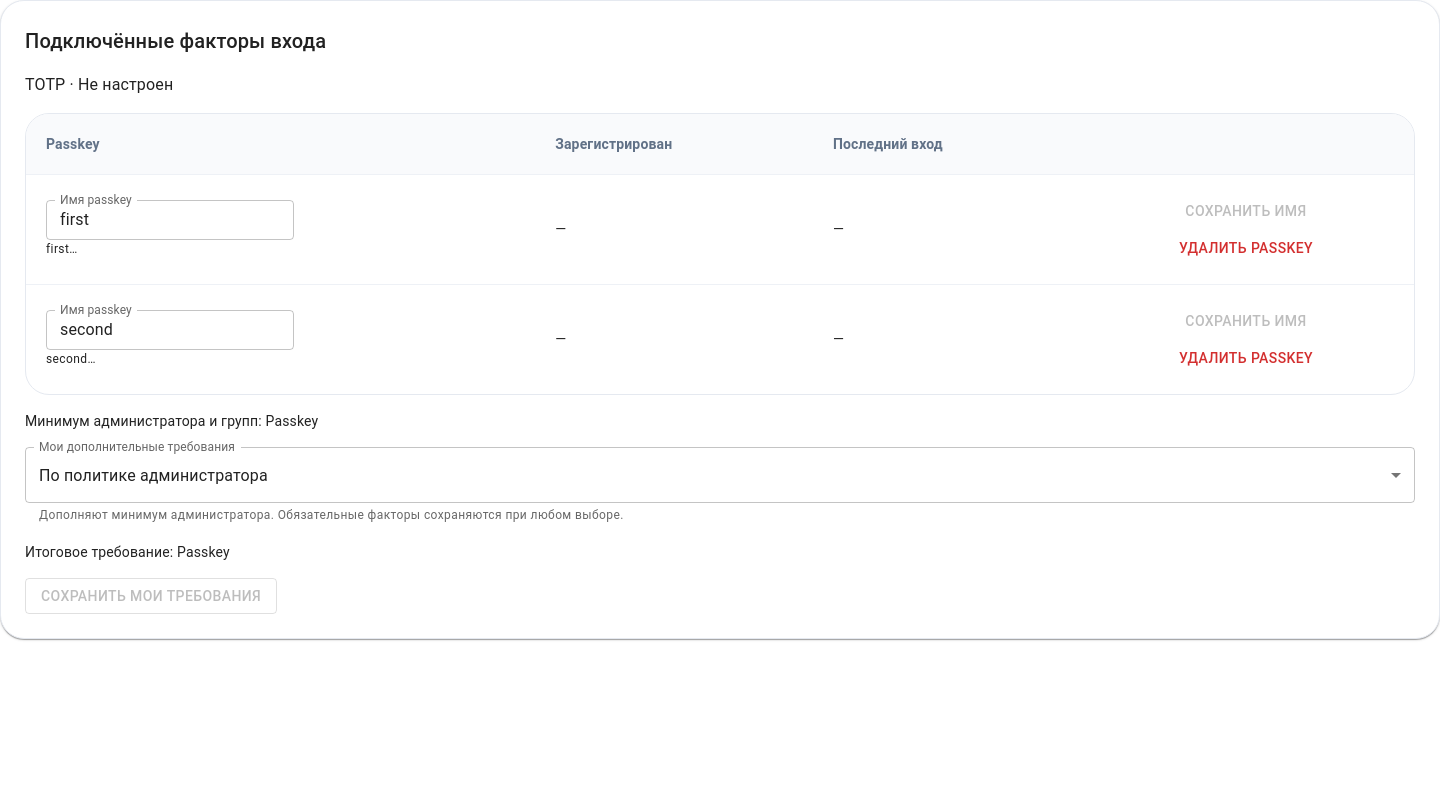
Test: one of several required passkeys may be removed while the last one stays protected
Click the button "Удалить passkey" in the row of "first". click: [1246, 248]
box: [1098,230,1394,266]
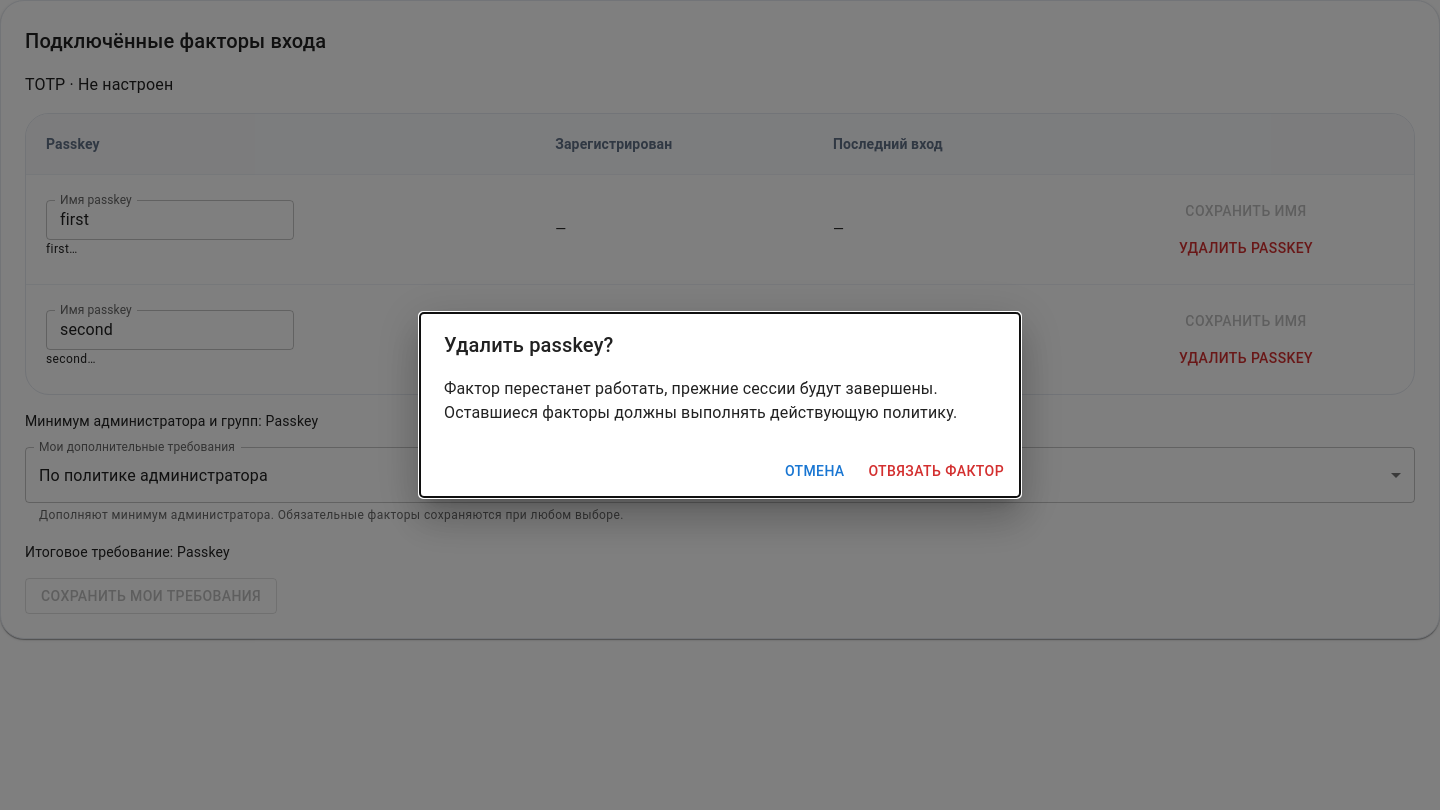
Click the button "Отвязать фактор". click: [936, 471]
box: [861,453,1012,489]
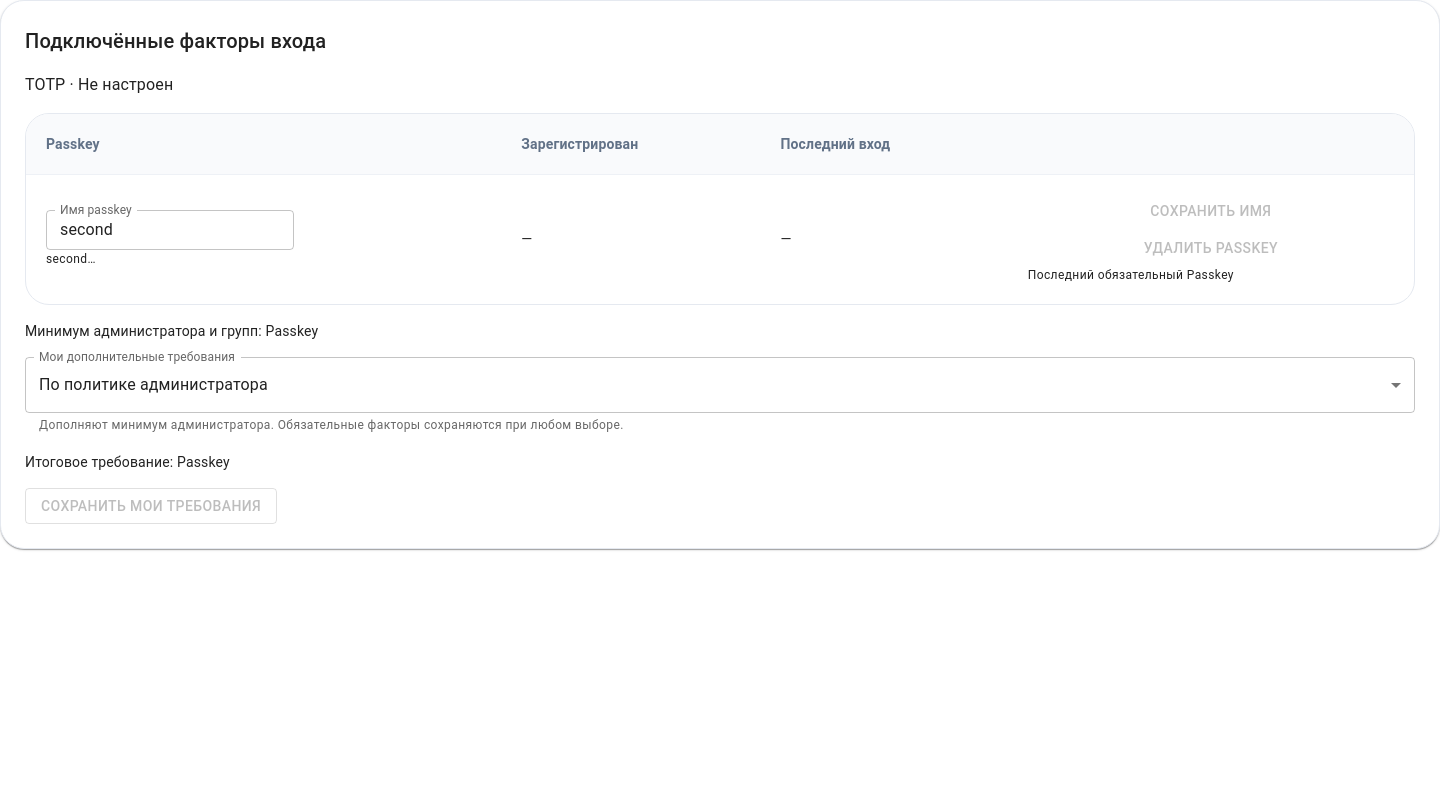
Expected: the number of fields labelled "Имя passkey" is 1, [46,210,294,250]
Result: the button "Удалить passkey" is disabled at [1028,230,1394,266]
